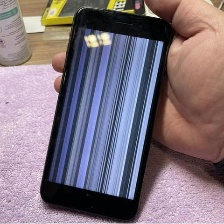phone: (37, 1, 179, 223)
